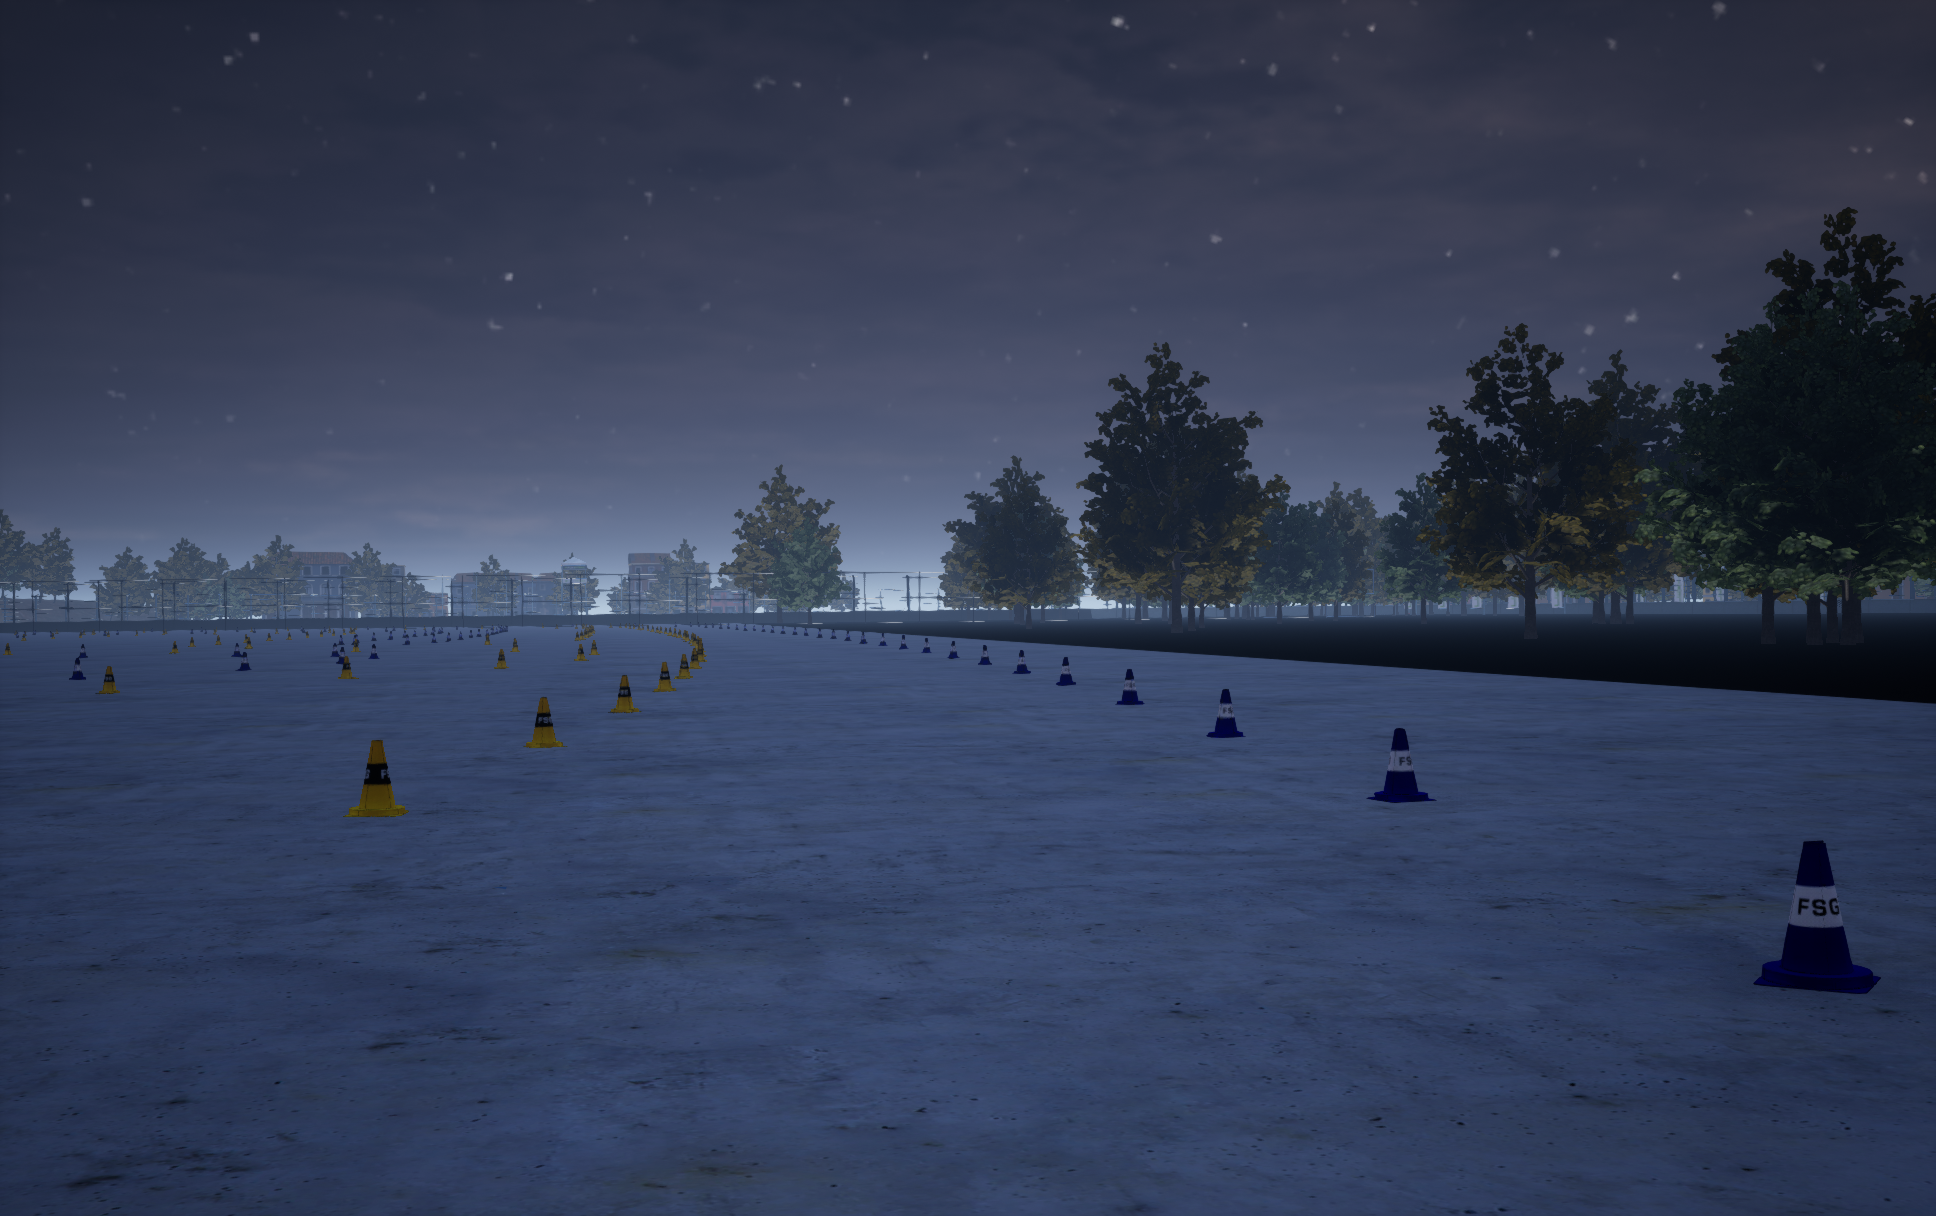blue: (343, 740, 408, 815), (523, 698, 567, 747), (608, 675, 642, 712), (651, 663, 677, 691), (95, 665, 119, 693), (338, 656, 359, 678), (674, 654, 692, 678), (495, 649, 509, 668), (689, 649, 700, 668)
yellow: (1752, 841, 1880, 993), (1366, 728, 1436, 801), (1206, 689, 1245, 737), (1115, 670, 1145, 705), (1056, 657, 1074, 685), (1011, 650, 1030, 672), (69, 658, 85, 679), (235, 651, 251, 670), (978, 644, 990, 664), (947, 642, 960, 658)
